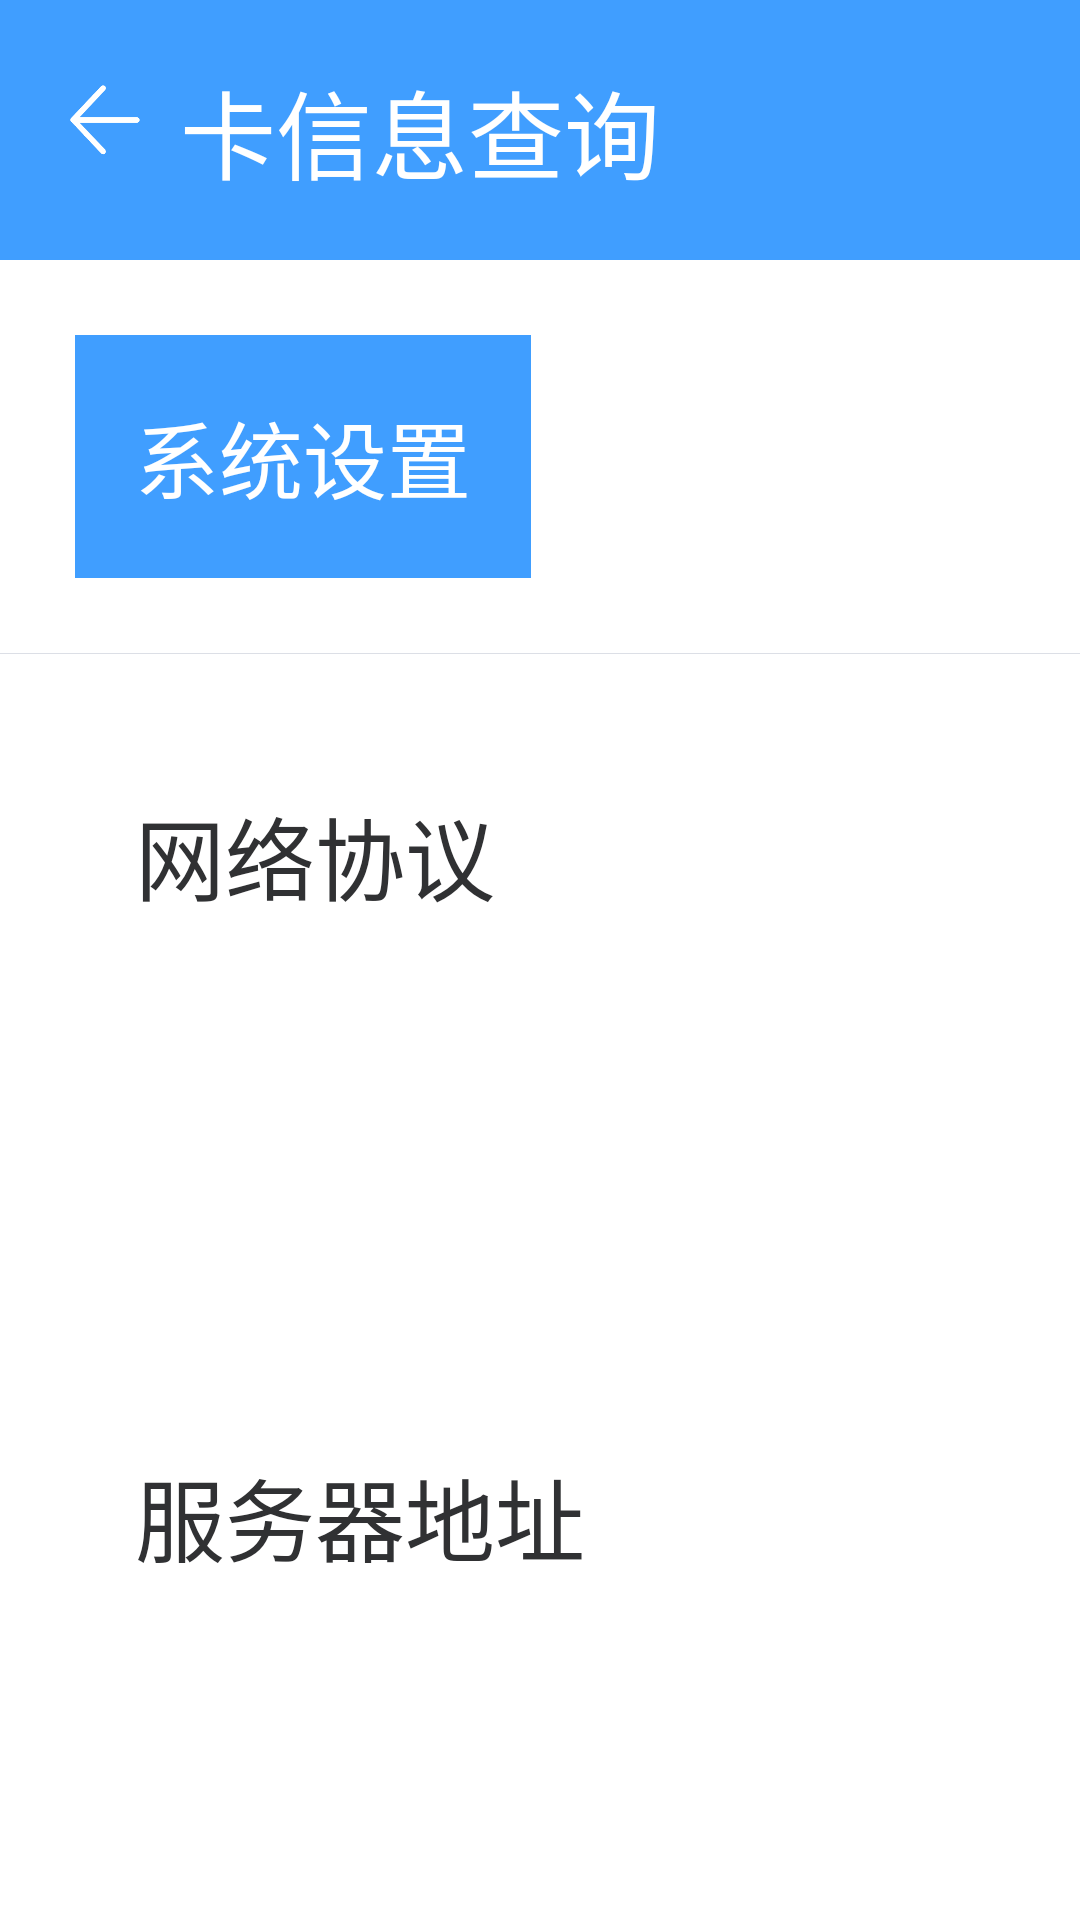

Point at icon controls on the screen. Image size 1080px×1920px, points as (x=x, y=y).
direction left: (x=105, y=119)
